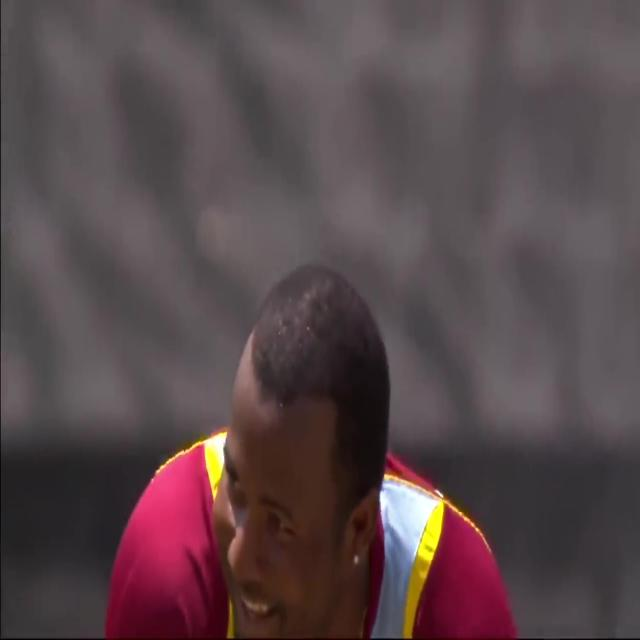Fielder: (83, 10, 576, 640)
